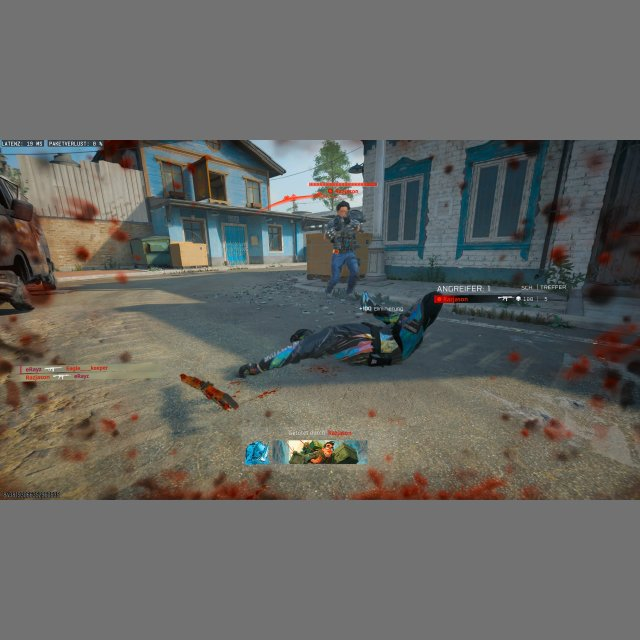head: (336, 199, 350, 217)
player: (324, 199, 366, 296)
